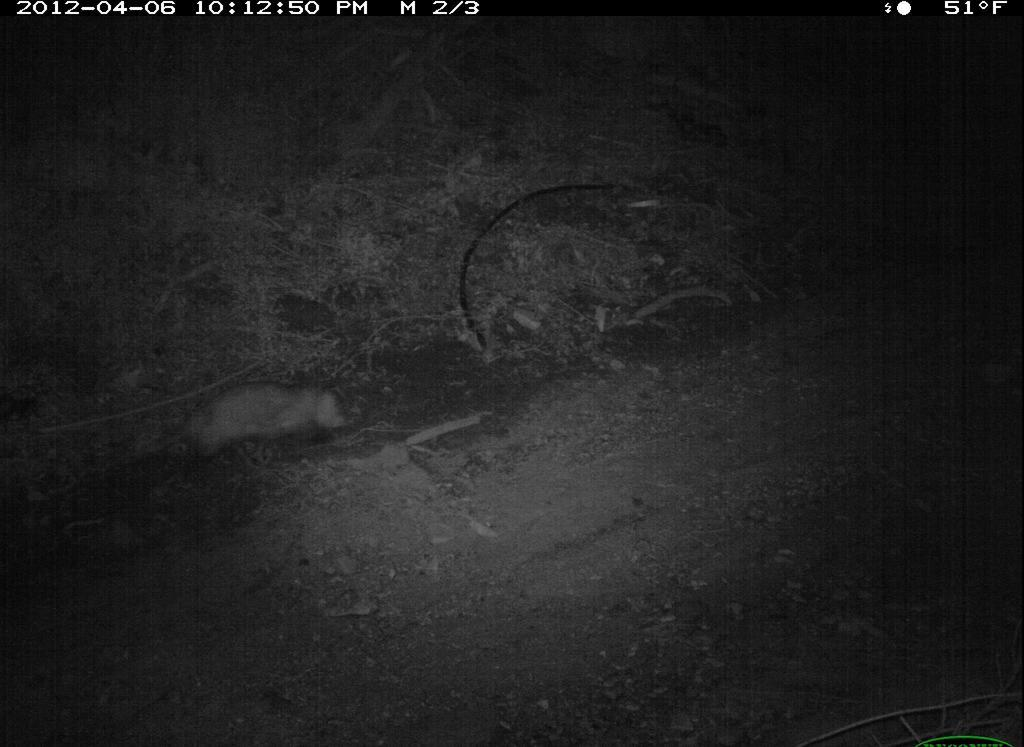opossum: (117, 367, 377, 474)
